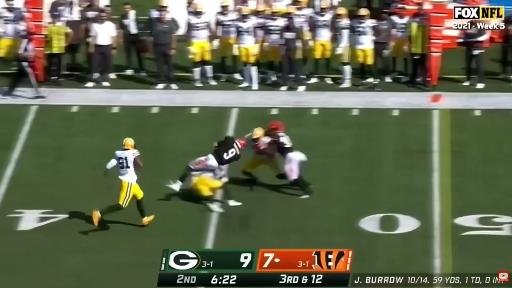Helmet: (268, 121, 284, 131), (193, 3, 204, 17), (252, 128, 265, 139), (123, 138, 135, 149), (283, 6, 296, 16), (320, 1, 330, 11), (220, 0, 229, 11), (358, 8, 370, 16), (236, 139, 246, 148), (336, 7, 347, 15), (194, 3, 203, 12), (240, 7, 250, 15), (286, 6, 295, 14), (271, 6, 280, 14), (256, 5, 266, 12), (320, 1, 329, 8), (299, 0, 308, 7), (279, 8, 287, 15), (6, 0, 14, 7), (264, 7, 271, 15), (220, 0, 229, 6), (292, 0, 301, 6)
Jersey: (212, 136, 241, 165), (115, 150, 139, 182), (0, 7, 23, 38), (352, 19, 375, 49), (188, 14, 210, 42), (313, 12, 333, 41), (216, 12, 238, 38), (294, 8, 313, 38), (272, 132, 293, 157), (235, 20, 255, 46), (266, 18, 285, 45), (335, 19, 350, 47), (391, 16, 409, 38), (252, 15, 267, 41), (253, 136, 271, 154)
Player: (92, 138, 154, 226), (167, 136, 246, 192), (267, 122, 312, 198), (187, 3, 216, 86), (243, 128, 286, 180), (190, 171, 242, 212), (308, 1, 333, 83), (235, 8, 259, 89), (351, 8, 375, 86), (216, 0, 238, 81), (264, 6, 285, 84), (293, 0, 314, 67), (334, 8, 351, 87), (0, 0, 23, 58), (253, 5, 269, 81), (391, 14, 409, 81)
